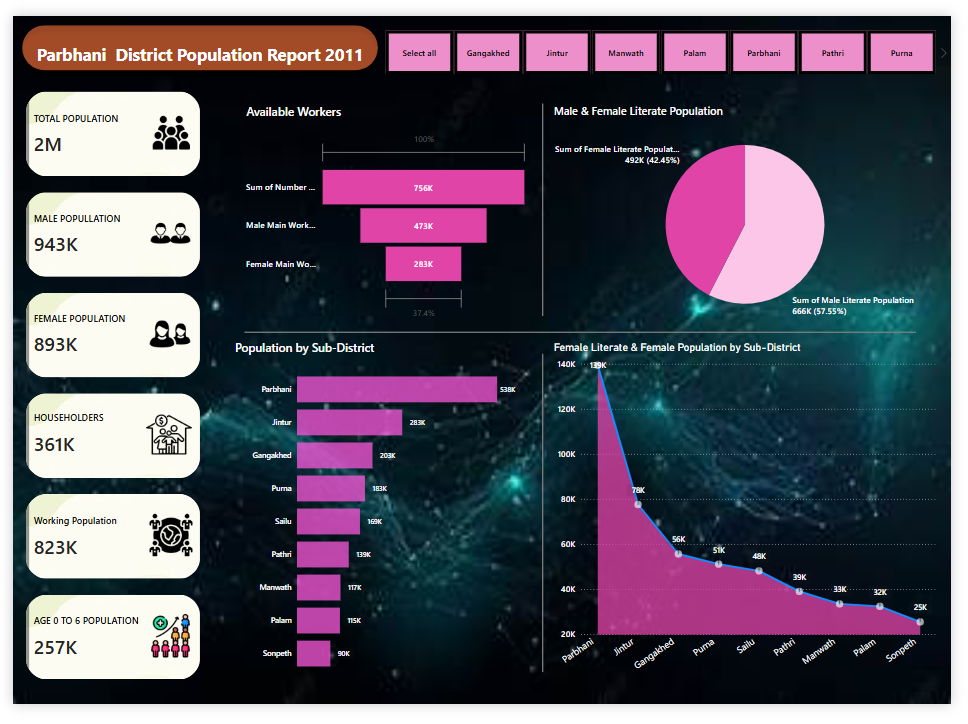

The page's visual inventory and layout, read from the dashboard file:
{"tool":"powerbi","page":{"name":"Page 1","canvas":[1500,1100],"ordinal":0},"visuals":[{"type":"shape","box":[0,0,598.6,101.4],"z":0},{"type":"textbox","box":[0,38.6,598.6,62.9],"z":1000},{"type":"shape","box":[0,101.7,318.3,980],"z":2000},{"type":"shape","box":[335.4,102.1,1147.9,966.7],"z":3000},{"type":"cardVisual","fields":{"Data":["parbhni population 2011.TOTAL POPULATION","parbhni population 2011.MALE POPULLATION","parbhni population 2011.FEMALE POPULATION","parbhni population 2011.HOUSEHOLDERS","Sum(parbhni population 2011.Working Population )","parbhni population 2011.AGE 0 TO 6 POPULATION"]},"box":[15,115,288.3,953.3],"z":4000},{"type":"clusteredBarChart","title":"Population by Sub-District","fields":{"Category":["parbhni population 2011.Sub-District"],"Y":["Sum(parbhni population 2011.Population)"]},"box":[350,518.8,462.5,550],"z":5000},{"type":"areaChart","title":"Female Literate & Female Population  by Sub-District","fields":{"Category":["parbhni population 2011.Sub-District"],"Y":["Sum(parbhni population 2011.Male Working Population  )"]},"box":[860,520,622.5,550],"z":6000},{"type":"pieChart","title":"Male & Female Literate Population   ","fields":{"Y":["Sum(parbhni population 2011.Male Literate Population  )","Sum(parbhni population 2011.Female Literate Population   )"]},"box":[860.4,139.6,622.9,364.6],"z":7000},{"type":"funnel","title":"Available Workers","fields":{"Y":["Sum(parbhni population 2011.Number Of Main Workers  )","Sum(parbhni population 2011.Number Of Male Main Workers  )","Sum(parbhni population 2011.Number Of Female Main Worker (UOM:Number), Scaling Factor:1)"]},"box":[368.8,139.6,460.4,364.6],"z":8000},{"type":"shape","box":[370,355,1075,300],"z":9000},{"type":"shape","box":[750,140,195,340],"z":10000},{"type":"shape","box":[750,540,195,510],"z":11000},{"type":"slicer","fields":{"Values":["parbhni population 2011.Sub-District"]},"box":[570,16,930,84],"z":12000}]}

Visuals, with their boxes in screenshot pixels (x1, y1, x2, y2), scaled from the page's 1500x1100 canvas onto the 968x724 screenshot:
shape: (left=0, top=0, right=386, bottom=67)
textbox: (left=0, top=25, right=386, bottom=67)
shape: (left=0, top=67, right=205, bottom=712)
shape: (left=216, top=67, right=957, bottom=703)
cardVisual - parbhni population 2011.TOTAL POPULATION x parbhni population 2011.MALE POPULLATION: (left=10, top=76, right=196, bottom=703)
"Population by Sub-District" clusteredBarChart: (left=226, top=341, right=524, bottom=703)
"Female Literate & Female Population  by Sub-District" areaChart: (left=555, top=342, right=957, bottom=704)
"Male & Female Literate Population   " pieChart: (left=555, top=92, right=957, bottom=332)
"Available Workers" funnel: (left=238, top=92, right=535, bottom=332)
shape: (left=239, top=234, right=933, bottom=431)
shape: (left=484, top=92, right=610, bottom=316)
shape: (left=484, top=355, right=610, bottom=691)
slicer - parbhni population 2011.Sub-District: (left=368, top=11, right=967, bottom=66)
